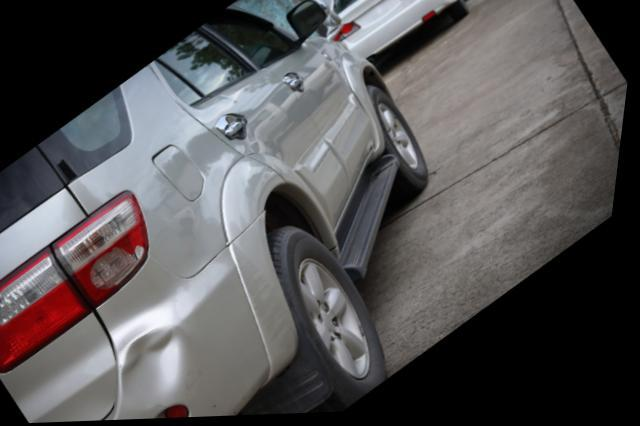dent: (129, 328, 193, 411)
lamp broken: (56, 192, 157, 310)
